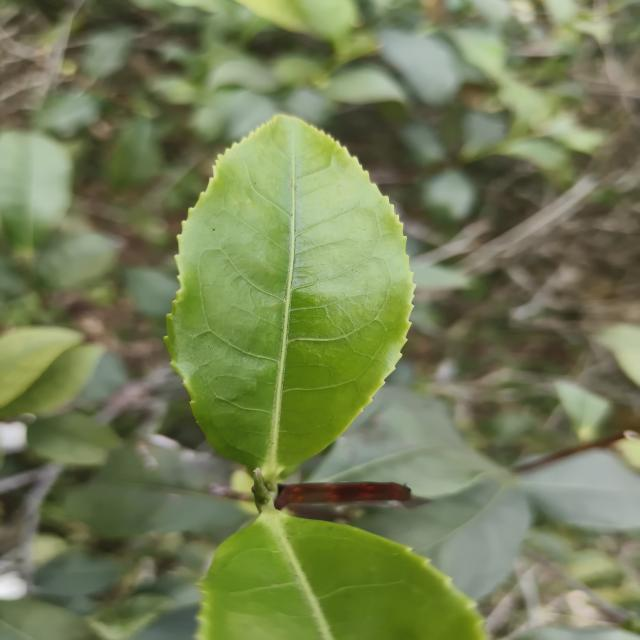Leaf: (167, 115, 413, 476), (198, 506, 484, 640), (308, 387, 503, 498), (356, 479, 532, 599), (65, 442, 257, 540), (520, 450, 640, 531), (0, 130, 72, 255), (0, 327, 83, 407), (379, 30, 461, 104), (27, 412, 121, 466), (36, 232, 120, 289), (107, 117, 162, 189), (35, 552, 120, 597), (34, 89, 99, 137), (325, 66, 406, 104), (450, 28, 505, 81), (421, 171, 476, 222), (83, 27, 134, 80), (126, 268, 179, 317)
